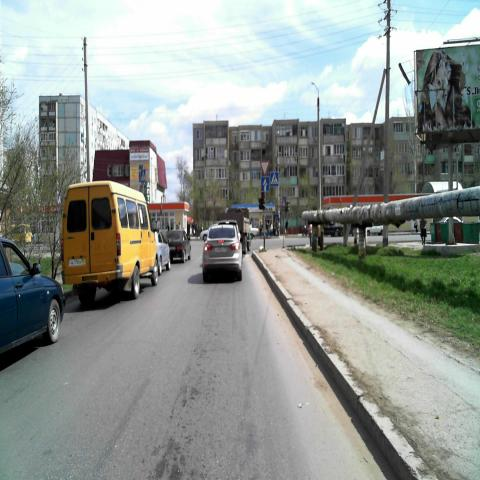2_4: (260, 161, 270, 175)
5_19_1: (270, 171, 278, 186), (140, 169, 146, 183), (282, 195, 286, 209)
5_6: (261, 176, 269, 192)
